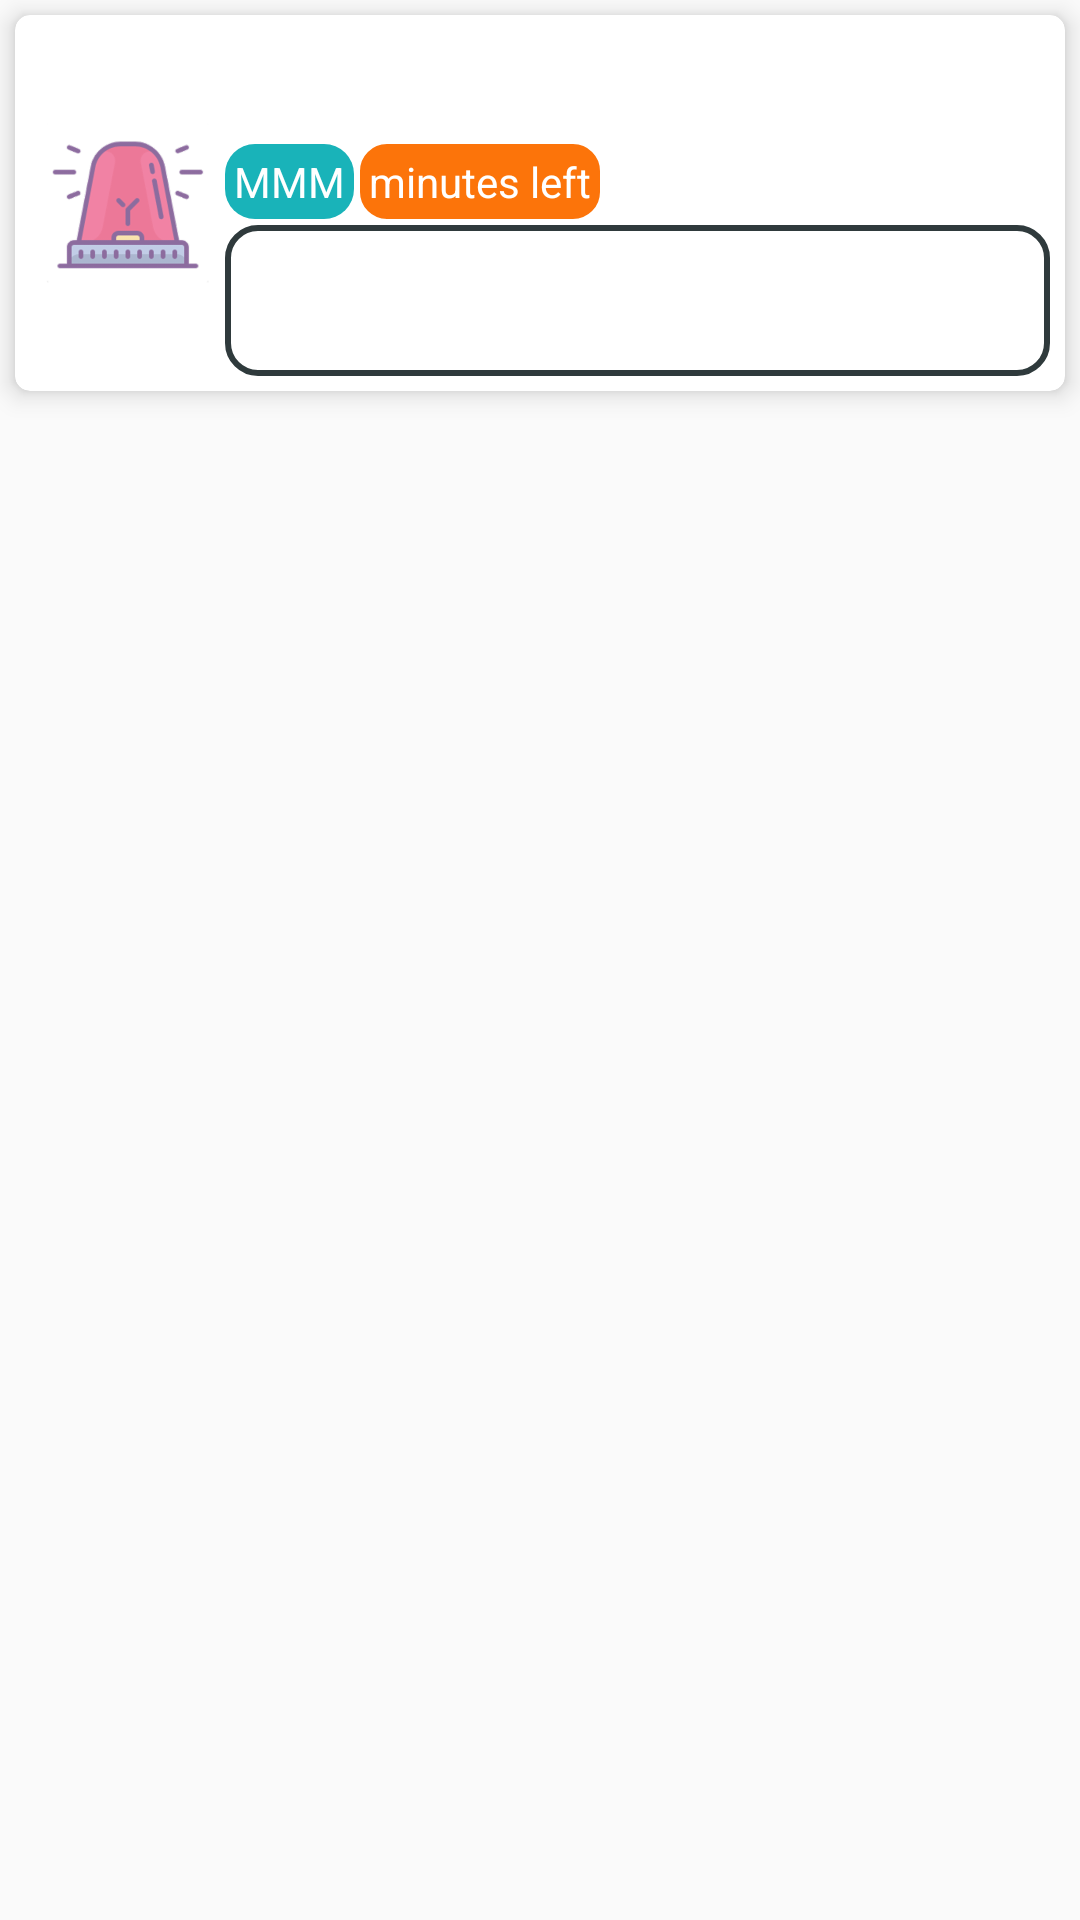

Icon bounding boxes for this 1080px×1920px phone screenshot, format box(x1, y1, x2, y2):
alarm: box(53, 141, 203, 269)
